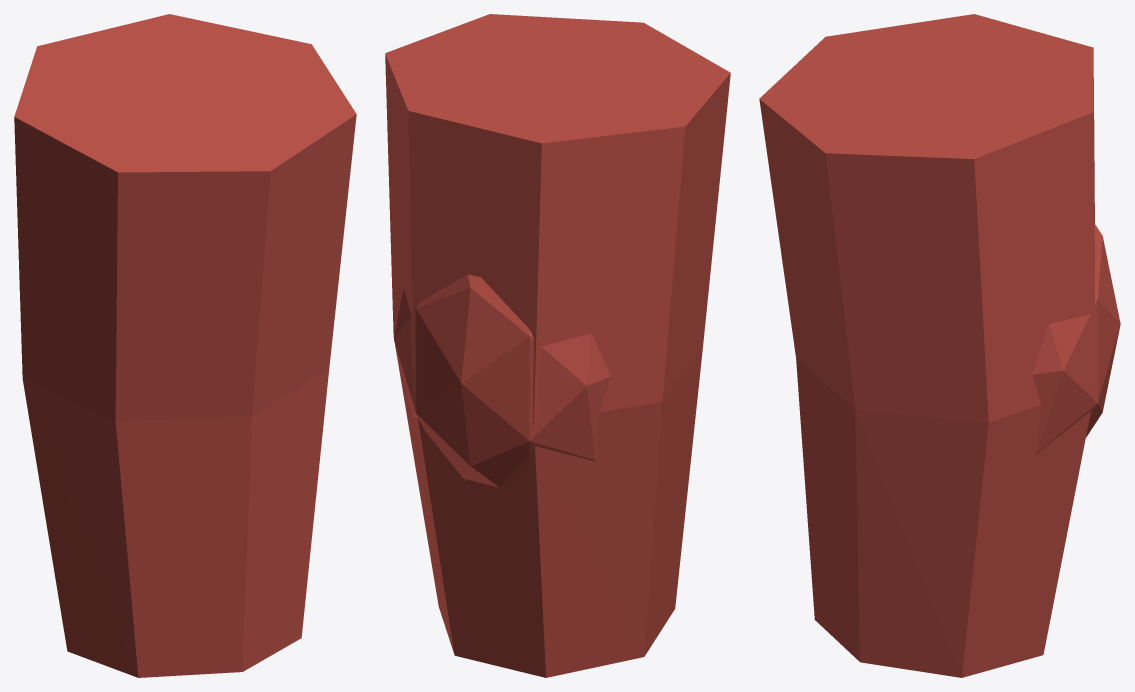
File: SatanUpperArm.obj
3 views of the same model, side by side, from view 1: azimuth 30°, elevation 25°; view 2: azimuth 150°, elevation 25°; view 3: azimuth 270°, elevation 25° (orthographic).
Parts seen in each view (by area): view 1: SatanUpperArm; view 2: SatanUpperArm; view 3: SatanUpperArm.
Part boxes in pixels (bbox=[...]): SatanUpperArm: bbox=[14, 14, 356, 677]; SatanUpperArm: bbox=[385, 14, 730, 677]; SatanUpperArm: bbox=[759, 14, 1120, 677].
Bounding box in the file's own units: 0.1852 × 0.329 × 0.1948.
Materials: 1 (1 with a texture image).
